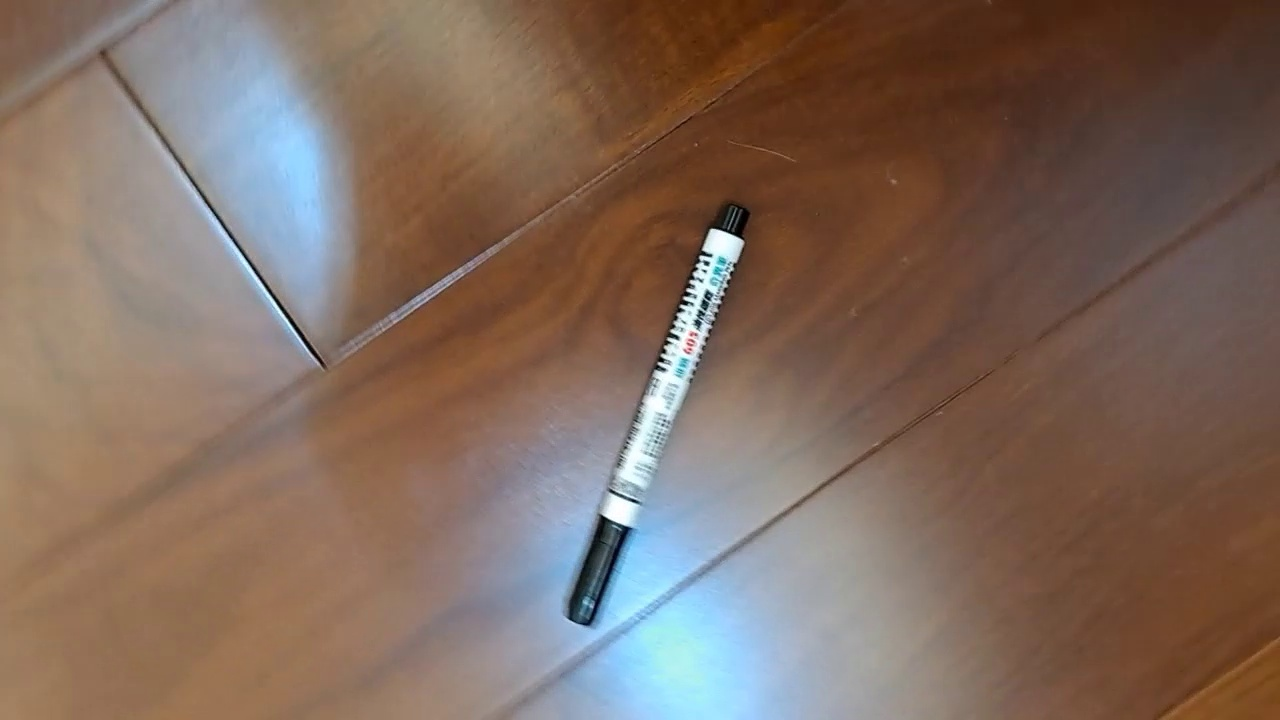pen: (562, 199, 752, 629)
